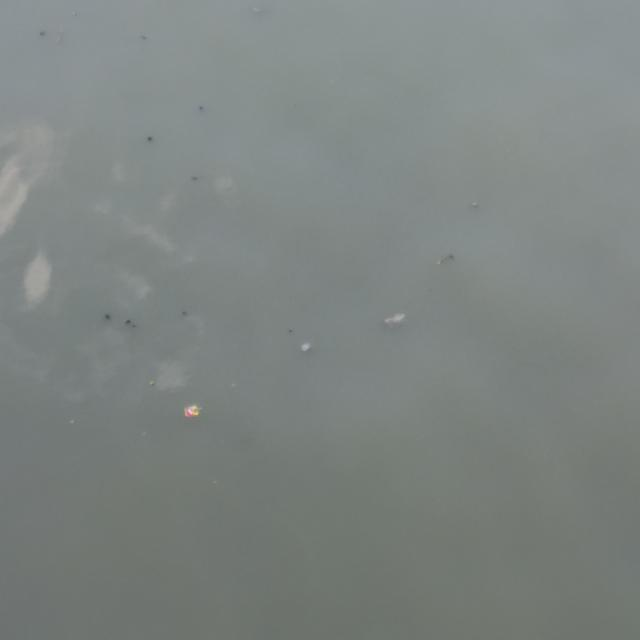Organic Debris: (96, 308, 148, 337), (190, 95, 218, 133), (140, 123, 166, 156), (432, 251, 461, 274), (189, 165, 211, 183)
Plastic: (373, 299, 415, 342), (291, 339, 331, 371), (180, 399, 205, 423)
